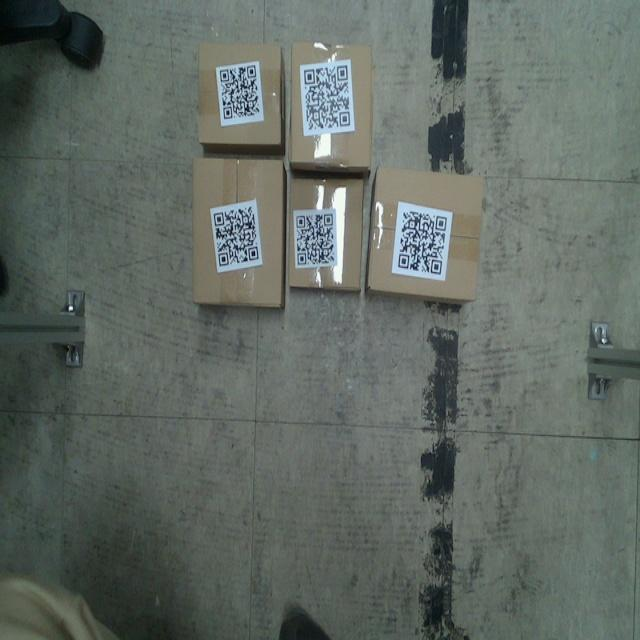box: (367, 166, 488, 307), (191, 154, 289, 305), (288, 39, 373, 174), (287, 175, 365, 296), (197, 43, 287, 142)
